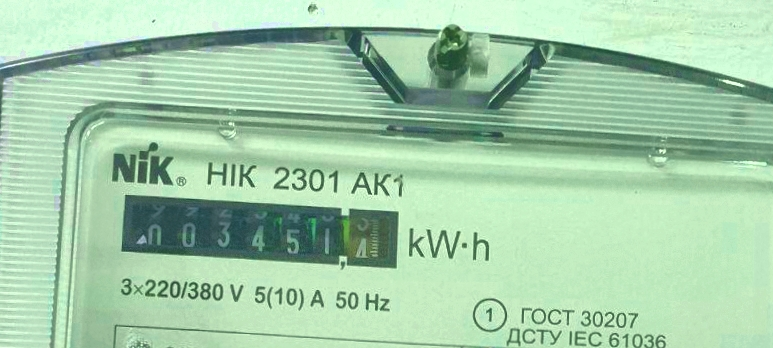0: (178, 219, 198, 248), (143, 219, 164, 246)
1: (318, 224, 335, 255)
3: (213, 217, 233, 248)
4: (247, 222, 268, 254), (350, 233, 370, 262)
5: (283, 224, 301, 256)
screen: (114, 188, 404, 275)
